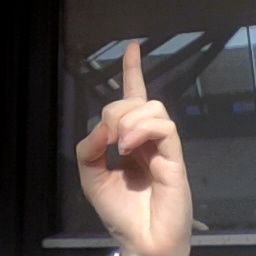D: (73, 40, 197, 251)
